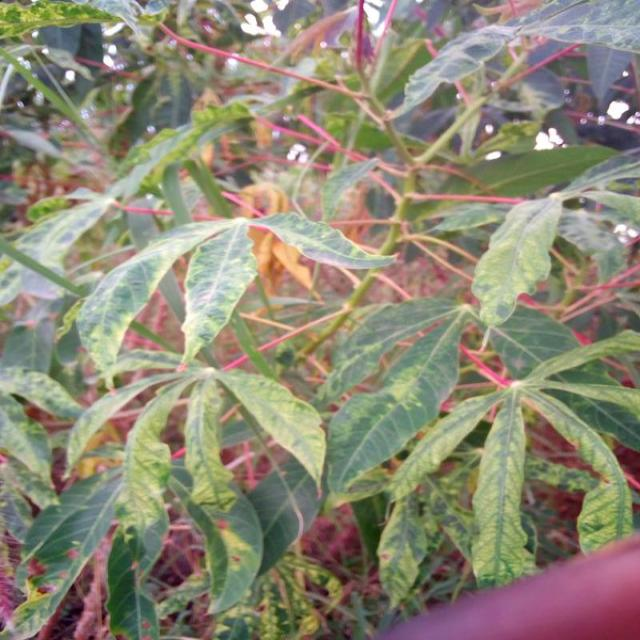cassava leaf: (1, 1, 638, 638), (74, 214, 257, 382), (470, 194, 562, 329), (178, 215, 258, 368)
